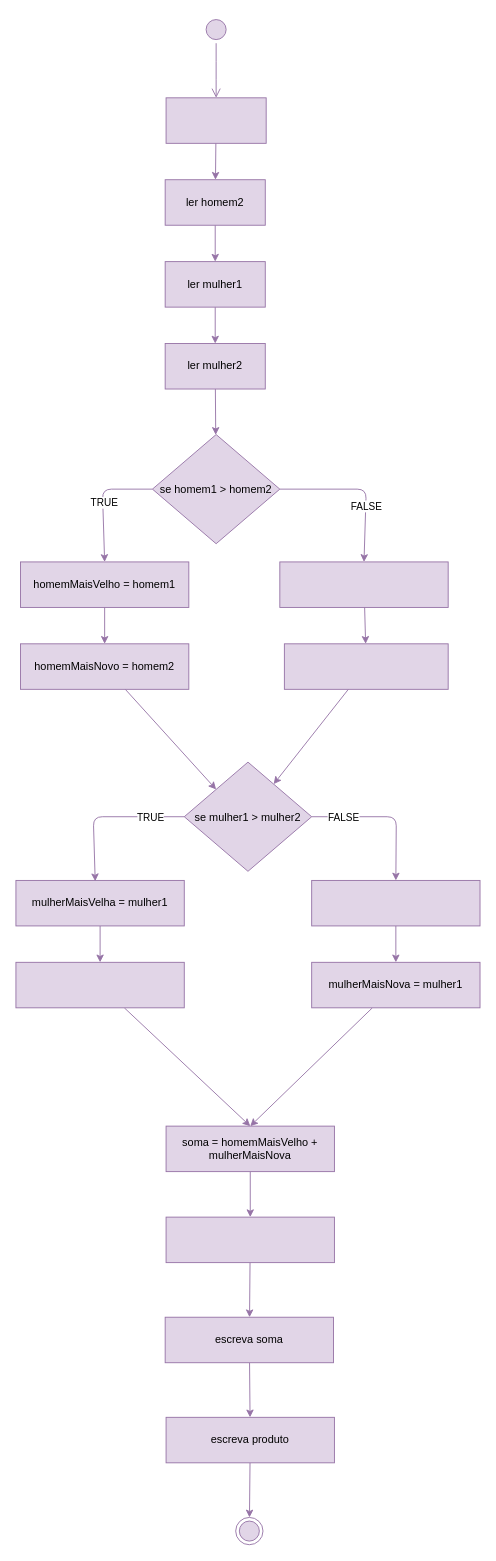
This 496x1561 diagram has some shape labels left out. The centre of each missing label's shape, as x and y in pixels:
"homemMaisNovo = homem1" goes at point 365,666.
"homemMaisVelho = homem2" goes at point 363,584.
"ler homem1" goes at point 215,120.
"mulherMaisNova = mulher2" goes at point 99,984.
"mulherMaisVelha = mulher2" goes at point 395,903.
"produto = HomemMaisNovo * mulherMaisVelha" goes at point 249,1239.
